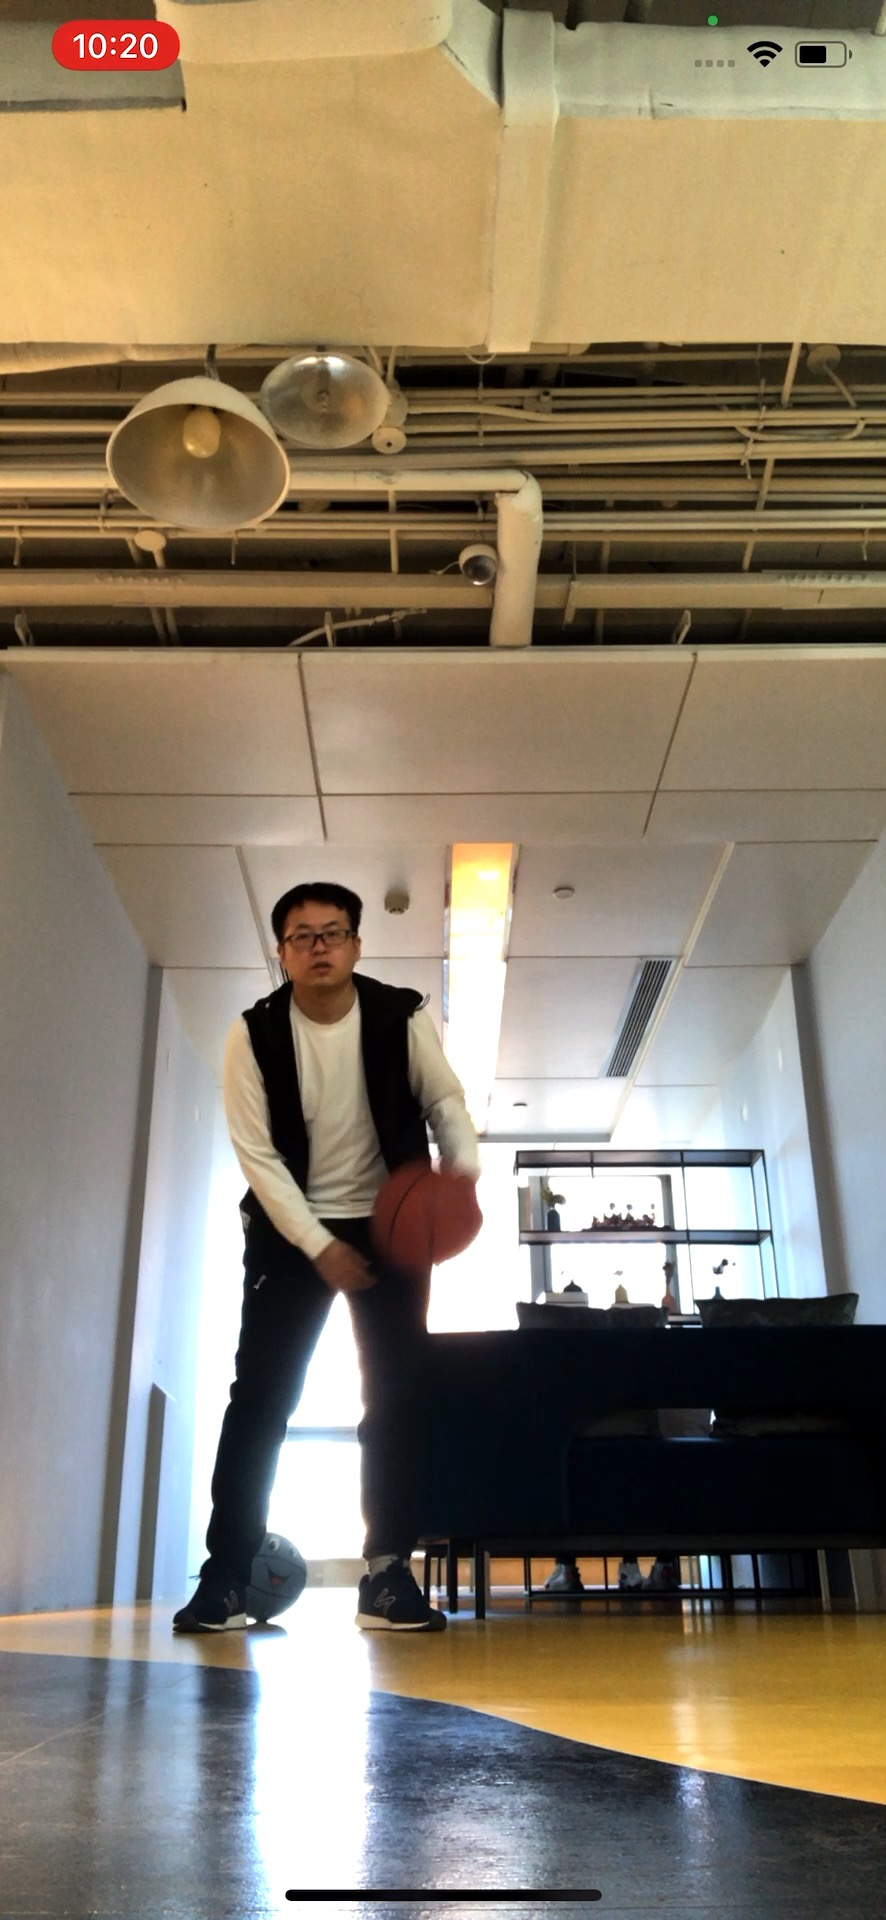ball: (378, 1171, 486, 1272)
